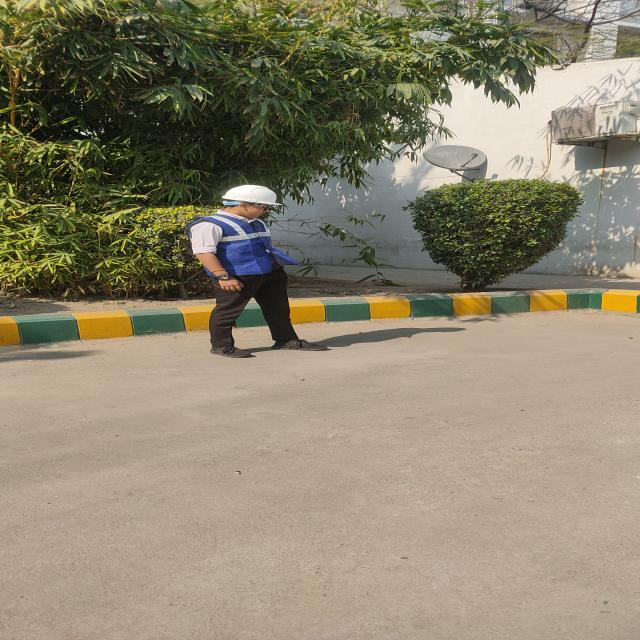safe: (190, 185, 299, 358)
